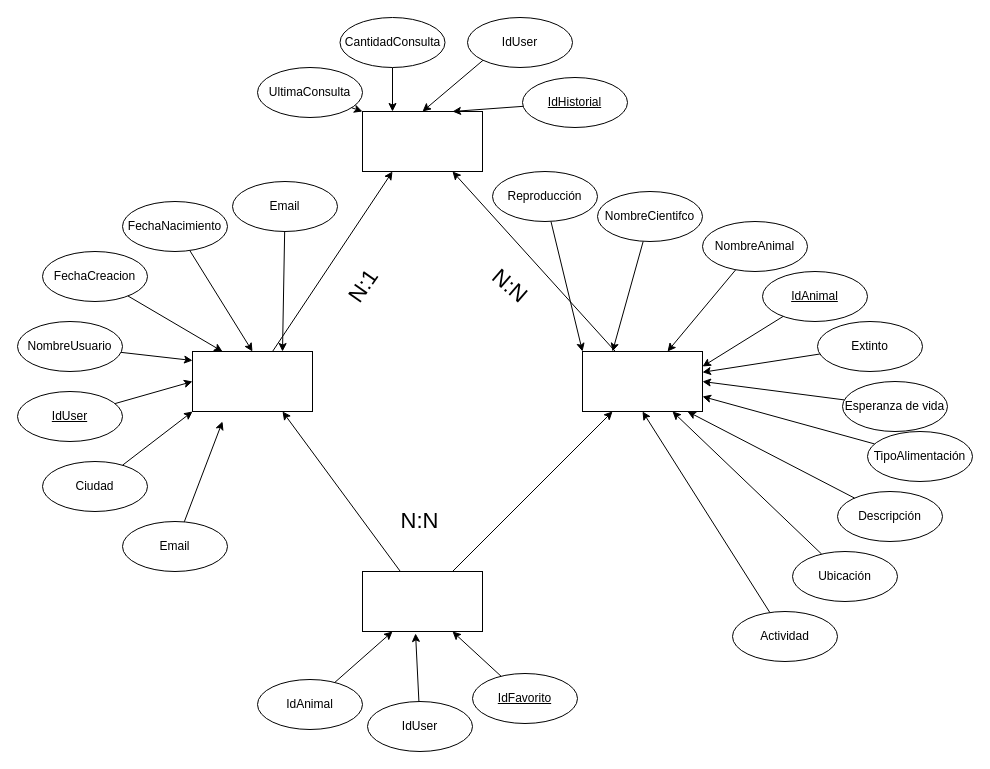
Image size: 990x769. Some labels were removed from this diagram. Here are the shapes that lost their labels. From the top down, the centre of each, then its label:
(422,141): Historial
(252,381): Usuario
(642,381): Animal
(422,601): Favoritos
